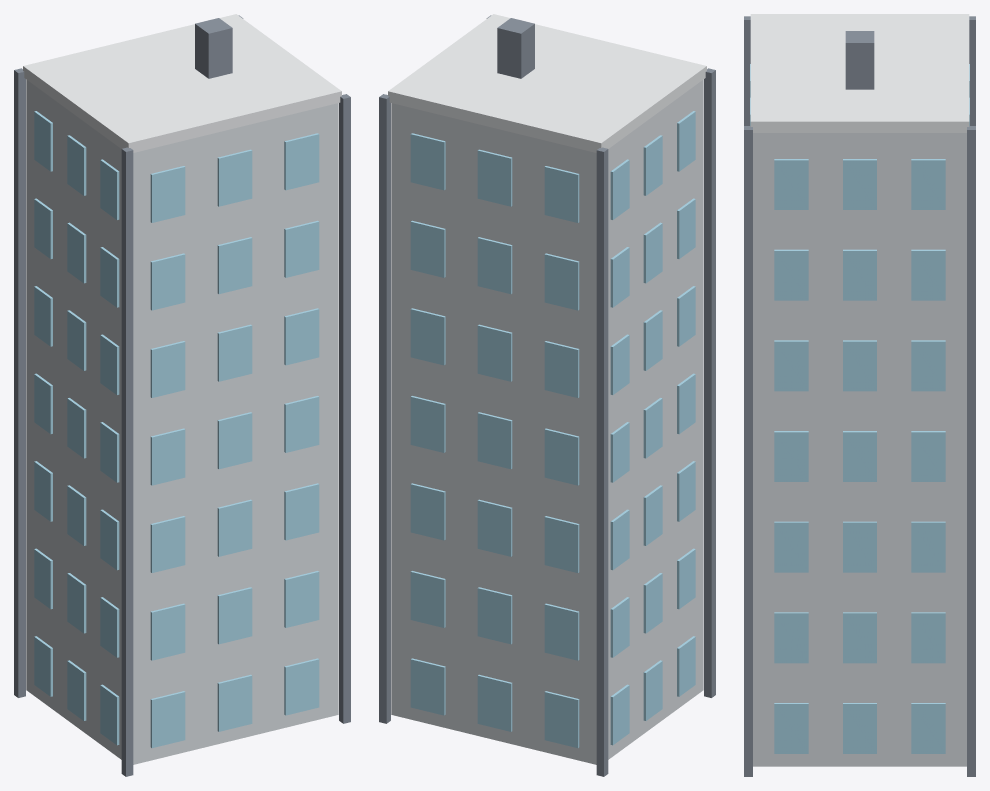
The model's file is office_a.glb.
3 views of the same model, side by side, from view 1: azimuth 30°, elevation 25°; view 2: azimuth 150°, elevation 25°; view 3: azimuth 270°, elevation 25° (orthographic). The views are drawn at different scales.
Size of the model in its own units: 7.53 by 21.6 by 6.49.
